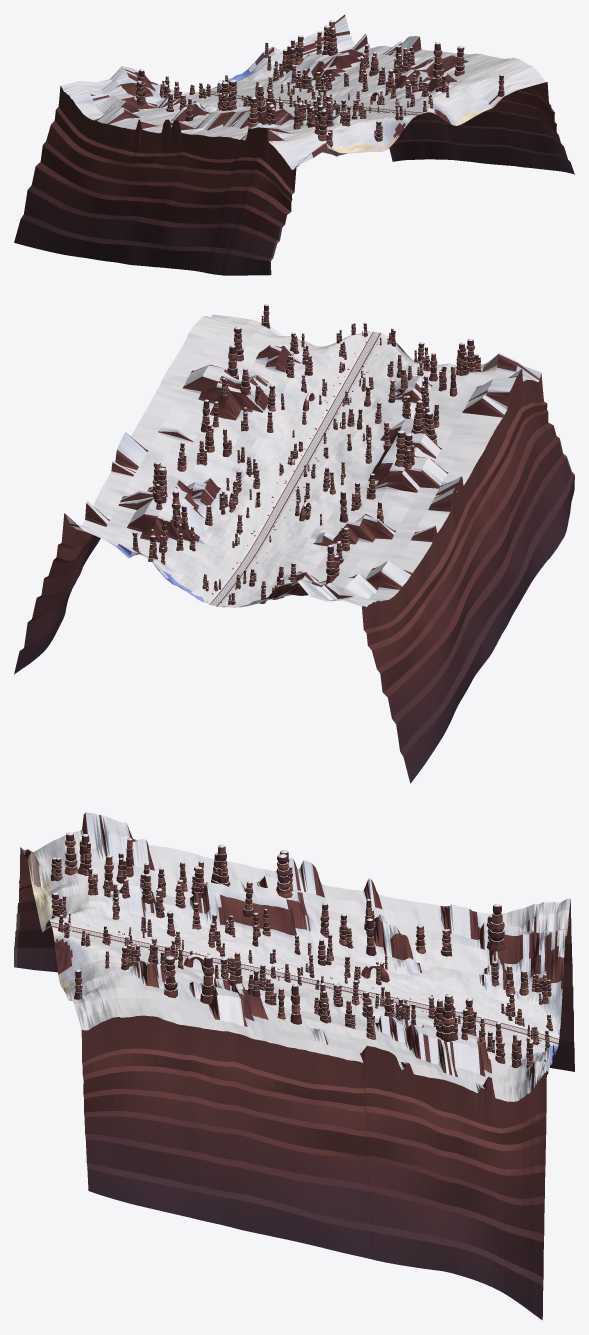
3 renders of one model, top to bottom at view 1: azimuth 30°, elevation 25°; view 2: azimuth 150°, elevation 25°; view 3: azimuth 270°, elevation 25°, orthographic. The views are drawn at different scales.
Visible parts, largest first — view 1: S08_Terrain_R_9770, S08_Terrain_R_11658, S08_Terrain_R_10242, S08_Terrain_L_11658, S08_Terrain_R_10714, S08_Terrain_R_11186, S08_Terrain_L_11186, S08_Terrain_L_10242, S08_Terrain_L_10714, S08_Terrain_L_9770, S08_Hoodoos_02, S08_Hoodoos_06 (+7 smaller); view 2: S08_Terrain_R_9770, S08_Terrain_R_10242, S08_Terrain_R_10714, S08_Terrain_R_11186, S08_Terrain_L_9770, S08_Terrain_R_11658, S08_Terrain_L_11186, S08_Terrain_L_10714, S08_Terrain_L_10242, S08_Terrain_L_11658, S08_Hoodoos_02, S08_Hoodoos_06 (+7 smaller); view 3: S08_Terrain_L_11658, S08_Terrain_L_10714, S08_Terrain_L_11186, S08_Terrain_L_10242, S08_Terrain_L_9770, S08_Terrain_R_9770, S08_Terrain_R_11658, S08_Terrain_R_10242, S08_Terrain_R_10714, S08_Terrain_R_11186, S08_Hoodoos_05, S08_Hoodoos_02 (+7 smaller).
Part boxes in pixels (x1,y1,x2,y2): S08_Terrain_R_9770: (14, 66, 218, 256); S08_Terrain_R_11658: (215, 111, 417, 275); S08_Terrain_R_10242: (79, 98, 278, 264); S08_Terrain_L_11658: (381, 57, 574, 174); S08_Terrain_R_10714: (129, 103, 317, 268); S08_Terrain_R_11186: (174, 108, 371, 274); S08_Terrain_L_11186: (336, 53, 535, 168); S08_Terrain_L_10242: (245, 36, 446, 160); S08_Terrain_L_10714: (292, 36, 490, 164); S08_Terrain_L_9770: (210, 14, 400, 161); S08_Hoodoos_02: (136, 20, 337, 111); S08_Hoodoos_06: (248, 42, 443, 127); S08_Terrain_R_9770: (216, 553, 453, 783); S08_Terrain_R_10242: (257, 498, 489, 714); S08_Terrain_R_10714: (288, 437, 520, 655); S08_Terrain_R_11186: (319, 383, 557, 600); S08_Terrain_L_9770: (14, 500, 248, 674); S08_Terrain_R_11658: (350, 333, 574, 546); S08_Terrain_L_11186: (151, 348, 341, 441); S08_Terrain_L_10714: (83, 402, 310, 566); S08_Terrain_L_10242: (54, 443, 279, 636); S08_Terrain_L_11658: (181, 314, 372, 386); S08_Hoodoos_02: (152, 461, 350, 582); S08_Hoodoos_06: (221, 345, 439, 444); S08_Terrain_L_11658: (52, 927, 191, 1217); S08_Terrain_L_10714: (258, 972, 394, 1263); S08_Terrain_L_11186: (157, 950, 292, 1240); S08_Terrain_L_10242: (358, 994, 481, 1282); S08_Terrain_L_9770: (457, 1017, 558, 1320); S08_Terrain_R_9770: (436, 898, 574, 1071); S08_Terrain_R_11658: (14, 812, 151, 972); S08_Terrain_R_10242: (324, 878, 455, 1010); S08_Terrain_R_10714: (226, 857, 353, 988); S08_Terrain_R_11186: (121, 822, 252, 965); S08_Hoodoos_05: (216, 844, 303, 1024); S08_Hoodoos_02: (384, 915, 505, 1063).
Size of the model in its own units: 2735 by 1587 by 2473.
1 material, 1 textured.
